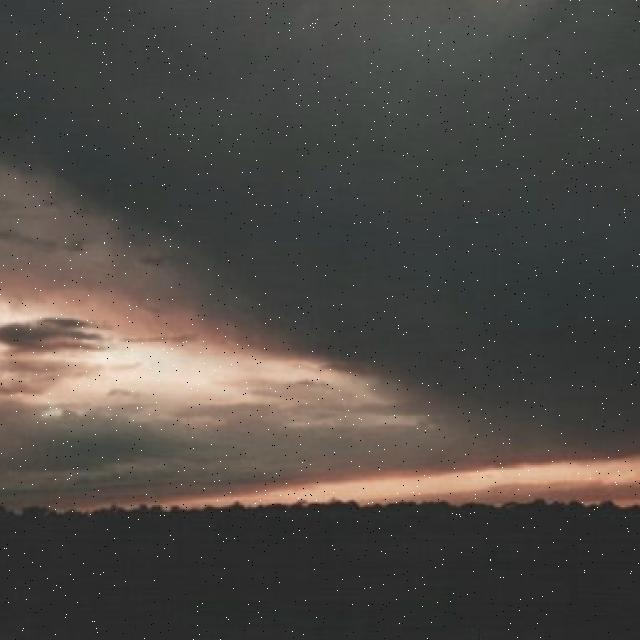Ns: (1, 112, 640, 464)
